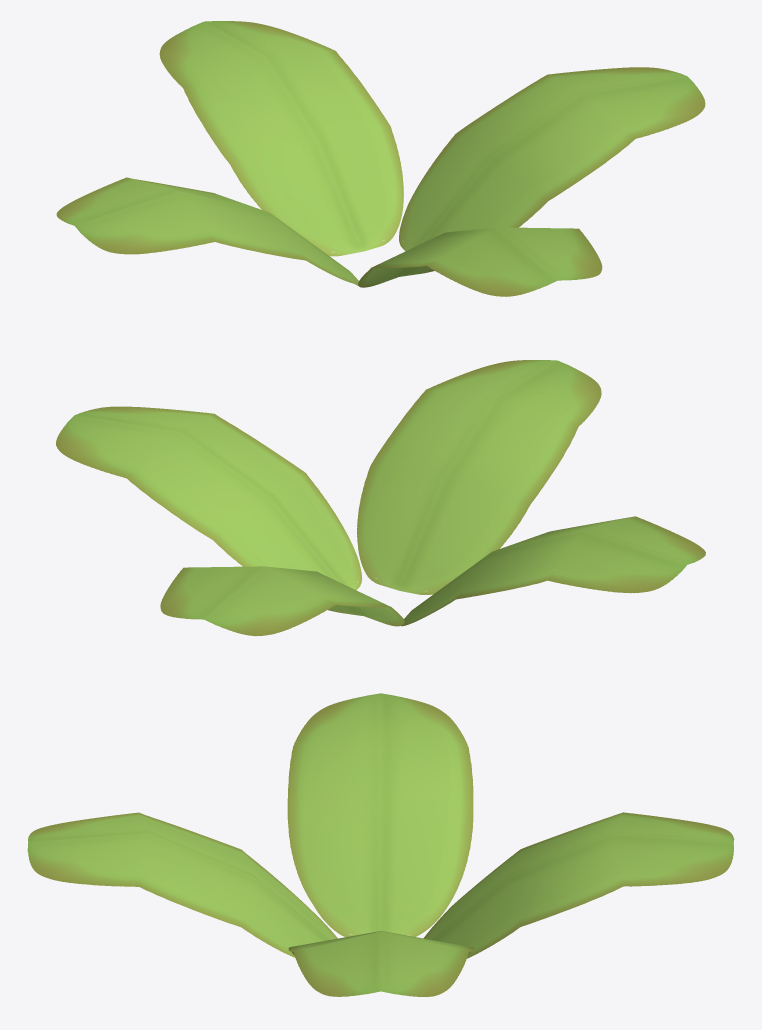
File: mct_foliage_flower00.fbx
3 views of the same model, one above another, from view 1: azimuth 30°, elevation 25°; view 2: azimuth 150°, elevation 25°; view 3: azimuth 270°, elevation 25° (orthographic).
Parts seen in each view (by area): view 1: mct_foliage_flower_00; view 2: mct_foliage_flower_00; view 3: mct_foliage_flower_00.
Part boxes in pixels (bbox=[...]): mct_foliage_flower_00: bbox=[56, 21, 705, 296]; mct_foliage_flower_00: bbox=[56, 360, 705, 636]; mct_foliage_flower_00: bbox=[27, 693, 734, 996].
Size of the model in its own units: 98.5 by 18.55 by 98.5.
